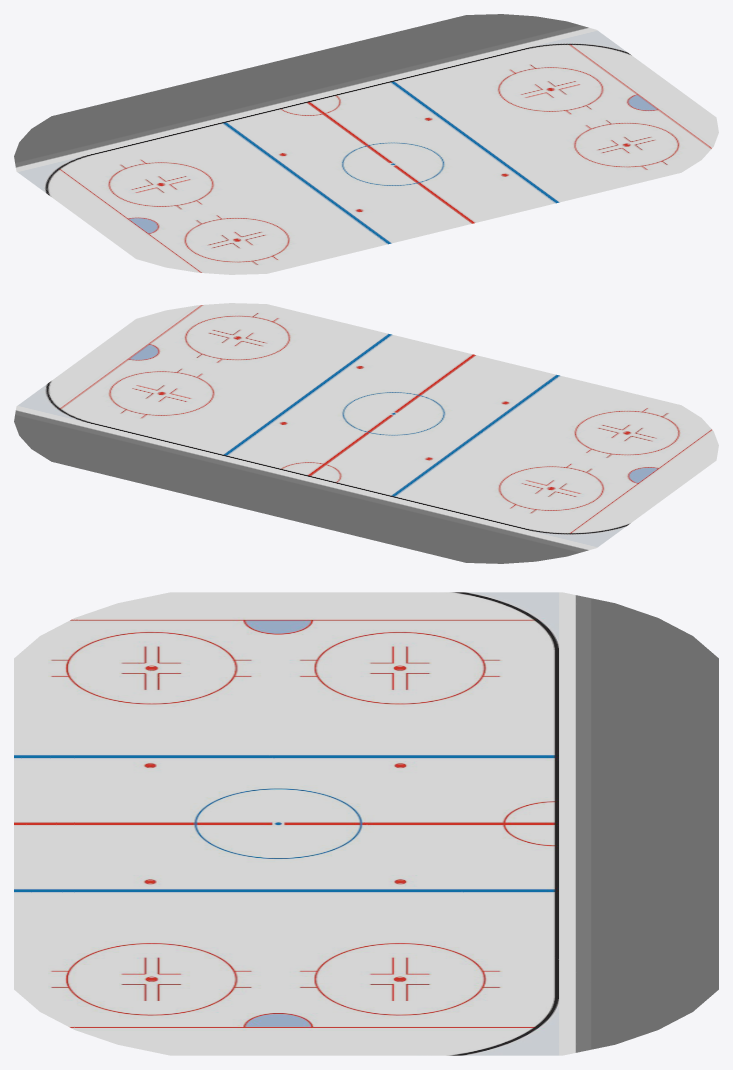
The model's file is SMrinkFloorV0.2.fbx.
The picture shows the model from 3 angles, top to bottom: view 1: azimuth 30°, elevation 25°; view 2: azimuth 150°, elevation 25°; view 3: azimuth 270°, elevation 25°; orthographic projection. The views are drawn at different scales.
Parts seen in each view (by area): view 1: SMrinkFloor; view 2: SMrinkFloor; view 3: SMrinkFloor.
Boxes of the visible parts, x1,y1,x2,y2 form: SMrinkFloor: (14, 14, 718, 274); SMrinkFloor: (14, 303, 718, 563); SMrinkFloor: (14, 592, 718, 1055).
Size of the model in its own units: 5600 by 4.11e-07 by 3600.
